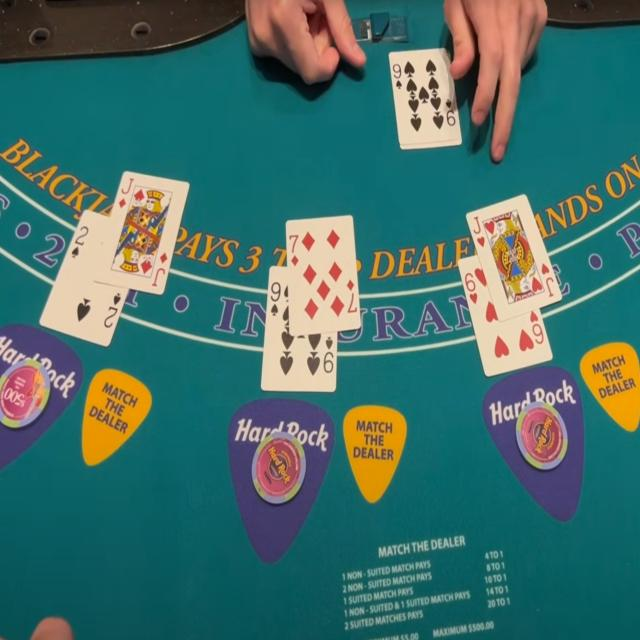2: (74, 224, 90, 246)
6: (462, 270, 477, 292)
7: (287, 232, 300, 255)
9: (268, 280, 283, 304), (391, 61, 404, 80)
J: (120, 175, 134, 198), (471, 215, 482, 235)
